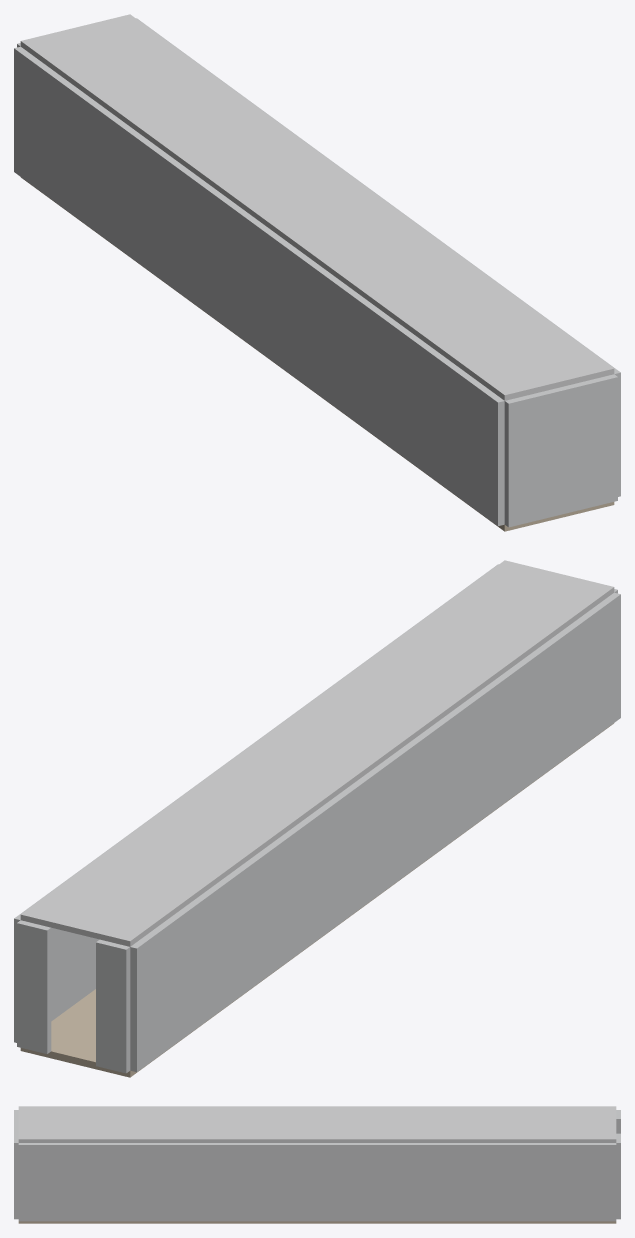
File: building.glb
3 renders of one model, top to bottom at view 1: azimuth 30°, elevation 25°; view 2: azimuth 150°, elevation 25°; view 3: azimuth 270°, elevation 25°, orthographic. The views are drawn at different scales.
Visible parts, largest first — view 1: geometry_0; view 2: geometry_0; view 3: geometry_0.
Boxes of the visible parts, bbox=[...] form: geometry_0: bbox=[14, 14, 620, 531]; geometry_0: bbox=[14, 560, 620, 1077]; geometry_0: bbox=[14, 1106, 620, 1223].
Size of the model in its own units: 4.56 by 4.83 by 31.57.
